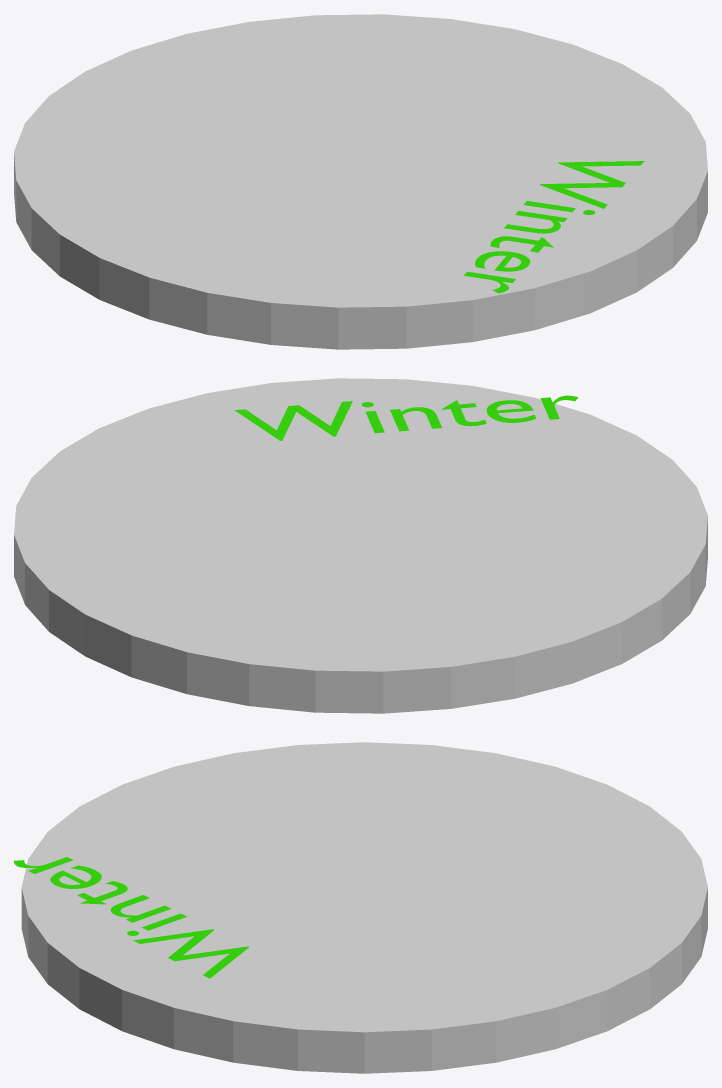
Rendered from TERRAIN_winter_1.glb.
The picture shows the model from 3 angles, top to bottom: view 1: azimuth 30°, elevation 25°; view 2: azimuth 150°, elevation 25°; view 3: azimuth 270°, elevation 25°; orthographic projection.
Parts seen in each view (by area): view 1: Cylinder, Text; view 2: Cylinder, Text; view 3: Cylinder, Text.
Part boxes in pixels (x1,y1,x2,y2): Cylinder: [14, 14, 707, 349]; Text: [464, 161, 644, 293]; Cylinder: [14, 378, 707, 713]; Text: [234, 395, 578, 440]; Cylinder: [21, 742, 707, 1073]; Text: [14, 857, 248, 978].
Size of the model in its own units: 6 by 0.4697 by 6.07.
